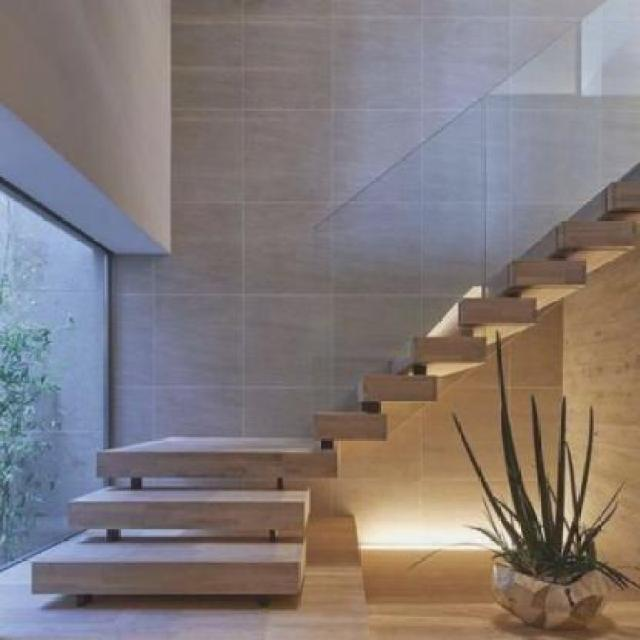stair: (1, 43, 640, 638)
